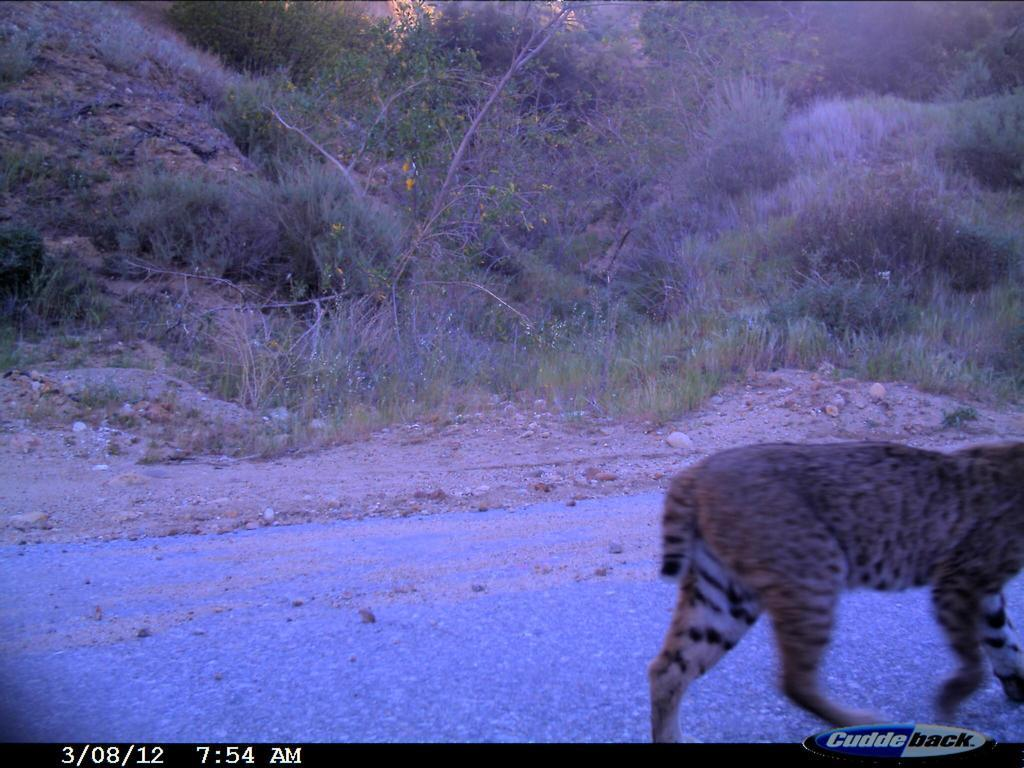bobcat: (556, 353, 1019, 688)
